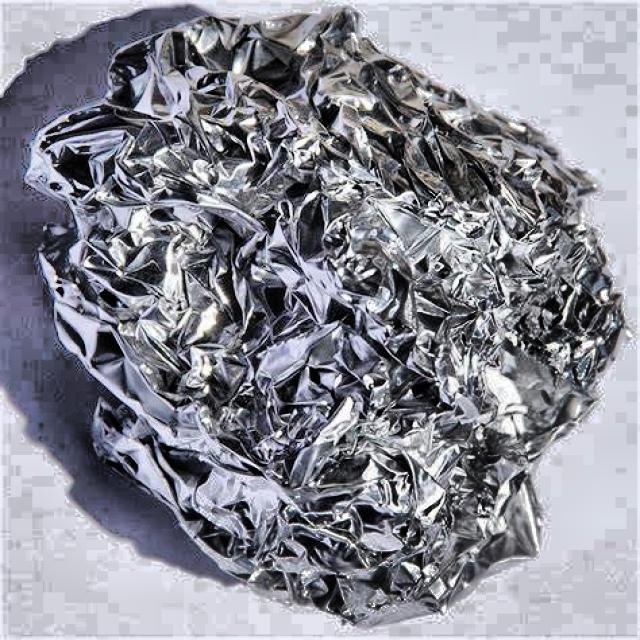Foil: (21, 0, 640, 632)
